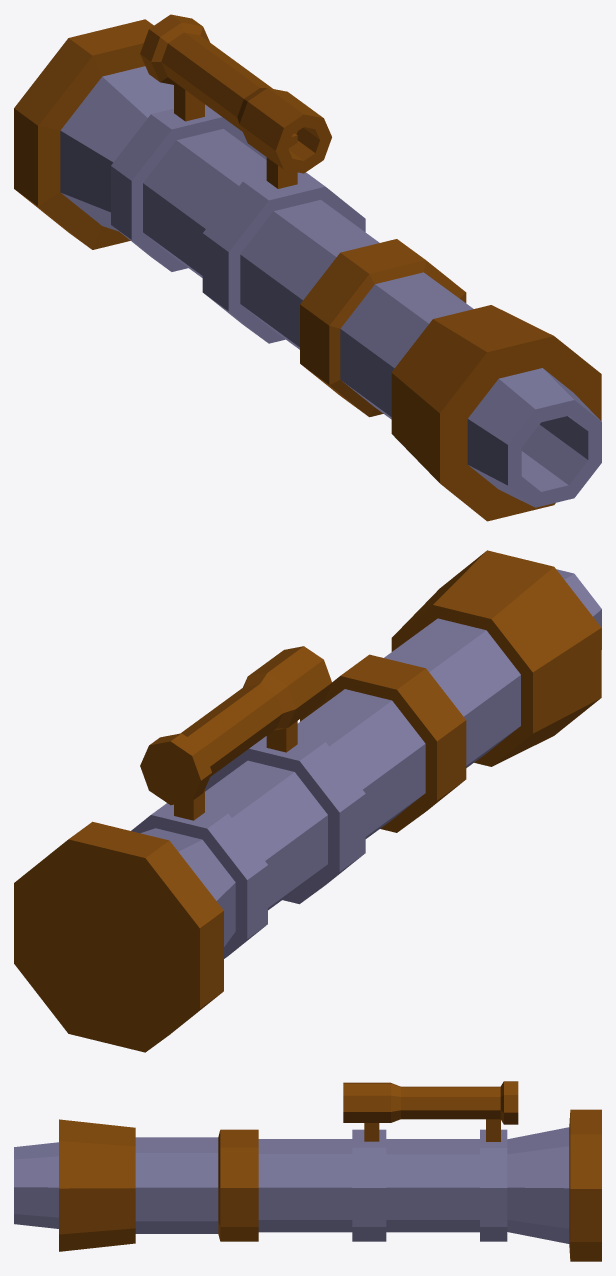
File: bazooka.glb
The picture shows the model from 3 angles, top to bottom: view 1: azimuth 30°, elevation 25°; view 2: azimuth 150°, elevation 25°; view 3: azimuth 270°, elevation 25°; orthographic projection. The views are drawn at different scales.
Parts seen in each view (by area): view 1: bazooka; view 2: bazooka; view 3: bazooka.
Boxes of the visible parts, x1,y1,x2,y2 form: bazooka: (14, 14, 601, 521); bazooka: (14, 550, 601, 1052); bazooka: (14, 1081, 601, 1261).
Size of the model in its own units: 3.01 by 3.95 by 12.57.
